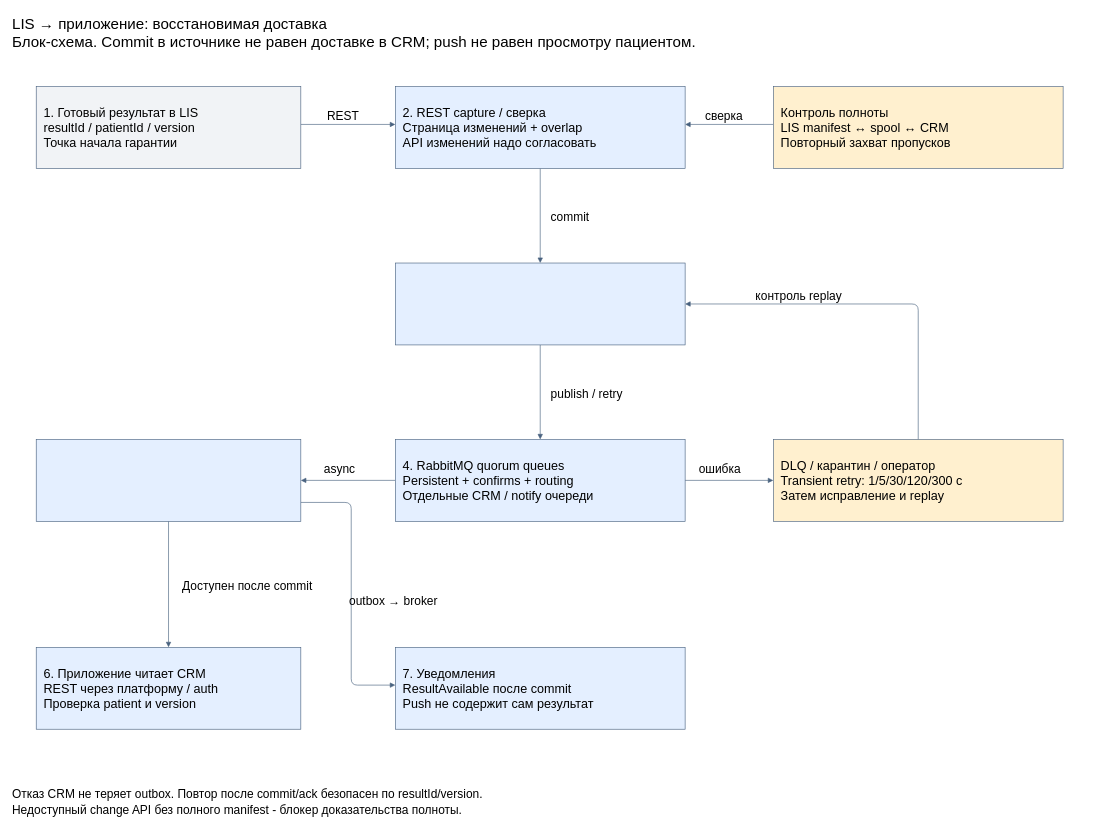
Image size: 1105x828. Some labels were removed from this diagram. Here are the shapes that lost their labels. From the top down, the centre of each, then its label:
At (540,303): "3. Durable spool + outbox Payload и cursor одним commit Повтор захвата безопасен".
At (168,480): "5. CRM consumer Inbox + version + upsert + outbox Ack после commit".
